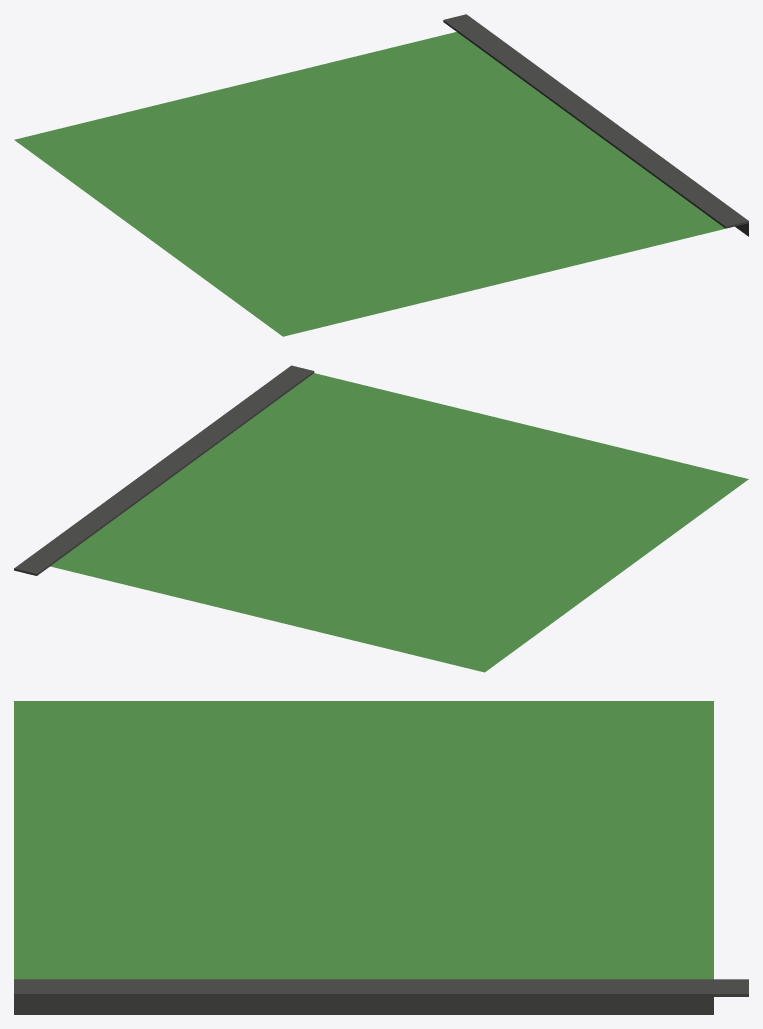
File: M_Grass350x350_10.fbx
The picture shows the model from 3 angles, top to bottom: view 1: azimuth 30°, elevation 25°; view 2: azimuth 150°, elevation 25°; view 3: azimuth 270°, elevation 25°; orthographic projection. The views are drawn at different scales.
Parts seen in each view (by area): view 1: M_Grass350x350_10; view 2: M_Grass350x350_10; view 3: M_Grass350x350_10.
Part boxes in pixels (box(x1,y1,x2,y2)): M_Grass350x350_10: box(14, 14, 748, 336); M_Grass350x350_10: box(14, 365, 748, 672); M_Grass350x350_10: box(14, 701, 748, 1014).
Bounding box in the file's own units: 350 × 368 × 11.5.
